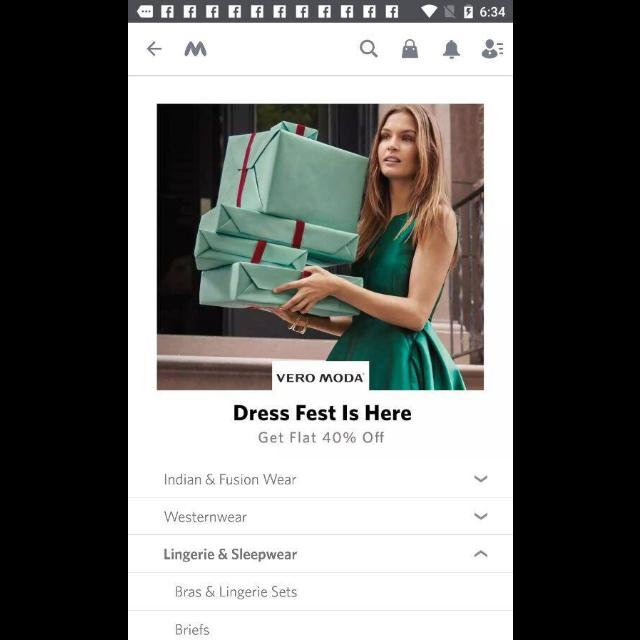icon: (481, 40, 503, 59), (442, 40, 460, 60), (400, 40, 418, 60), (358, 40, 378, 58), (146, 42, 162, 56), (474, 550, 488, 558), (474, 512, 488, 520), (473, 476, 487, 482)
image: (156, 104, 484, 390)
text: (234, 405, 411, 421), (164, 548, 296, 562), (175, 586, 297, 600), (164, 473, 296, 485), (258, 431, 384, 443), (164, 511, 246, 523), (175, 624, 209, 636), (184, 42, 206, 58)
toolbar: (128, 24, 512, 76)
uppertaskbar: (128, 1, 512, 23)
